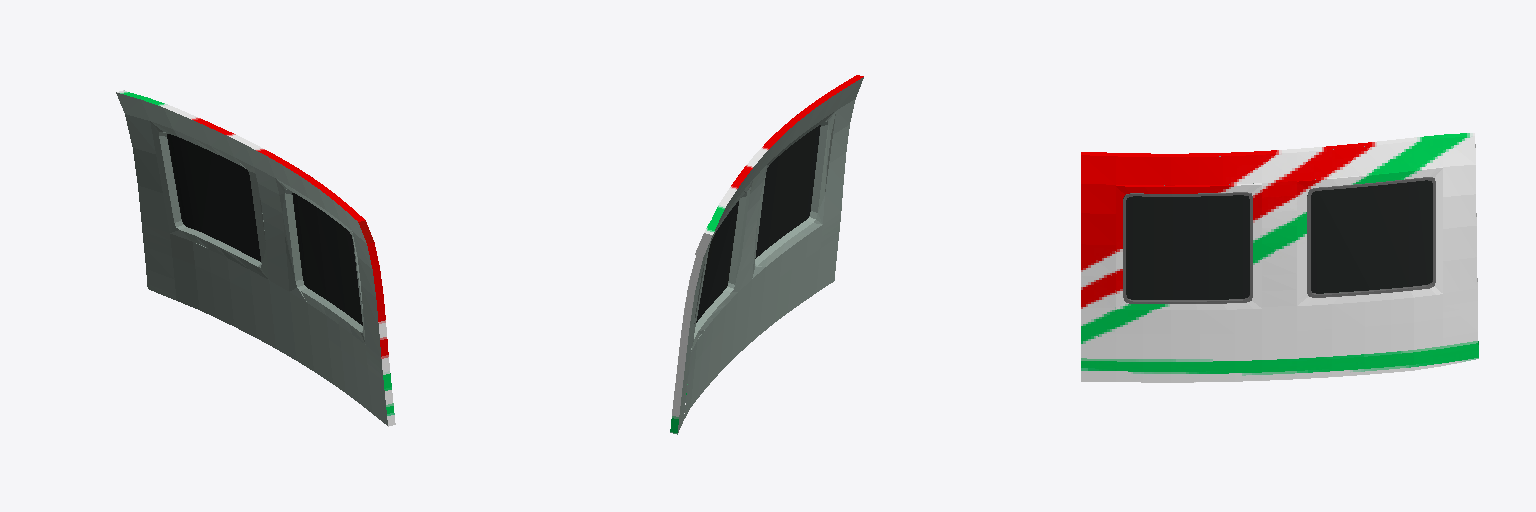
3 views of the same model, side by side, from view 1: azimuth 30°, elevation 25°; view 2: azimuth 150°, elevation 25°; view 3: azimuth 270°, elevation 25° (orthographic).
Bounding box in the file's own units: 6261 × 14890 × 25327.
5 materials, 2 textured.